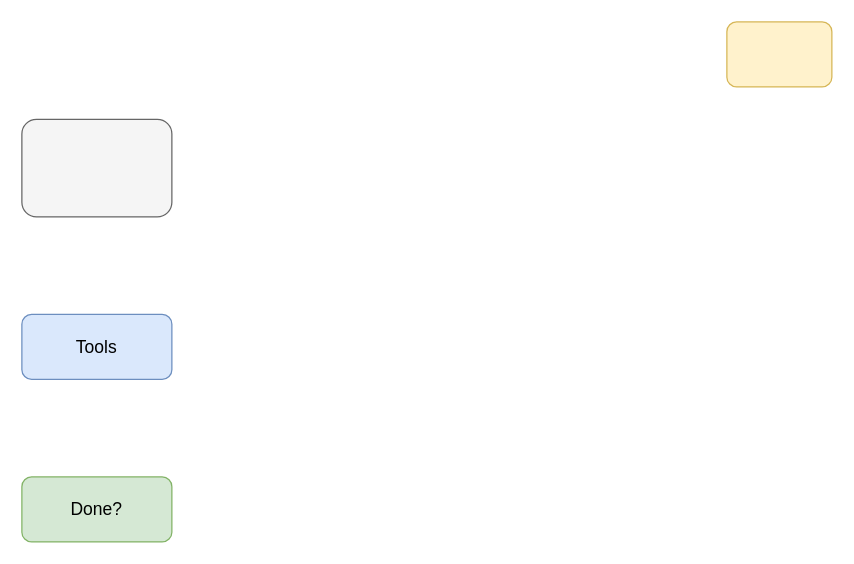
This 854x564 diagram has some shape labels left out. The shapes that lost their labels are listed below. From the top down, each one's box as (x1, y1, x2, y2) in pixels, then its label:
(726, 21, 832, 87): START
(21, 118, 172, 217): Agent (LLM)
